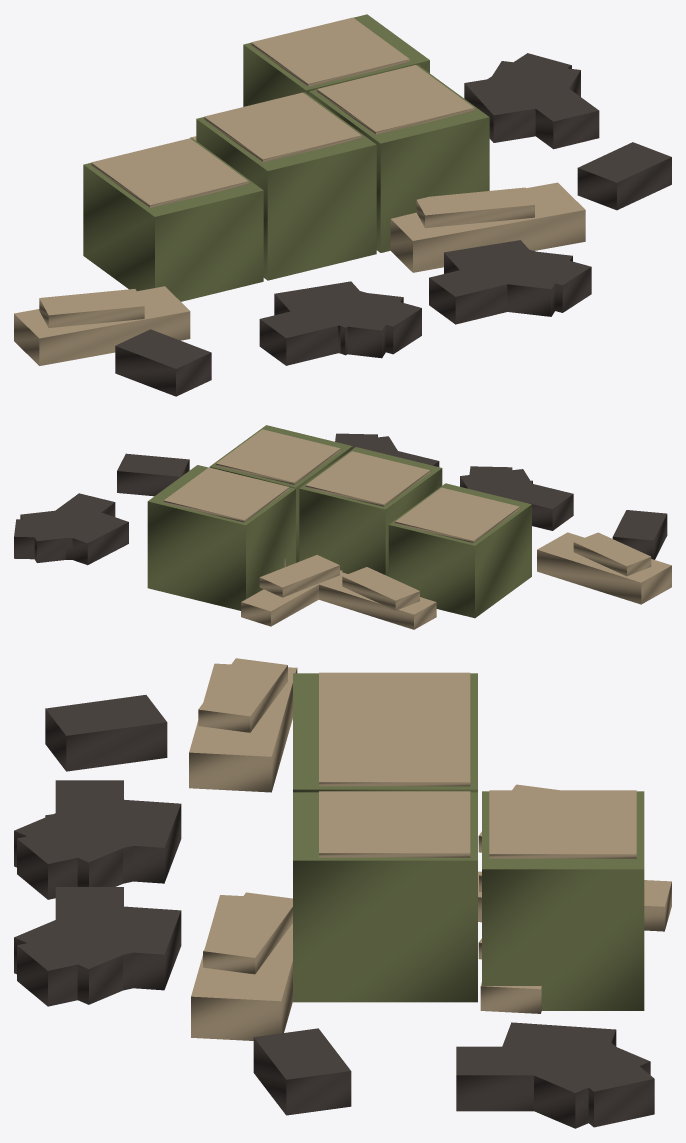
The model's file is SM_HescoRemateEspejo_v2_Escalonado_e2_MuyDanado_LOD1.fbx.
3 renders of one model, top to bottom at view 1: azimuth 30°, elevation 25°; view 2: azimuth 150°, elevation 25°; view 3: azimuth 270°, elevation 25°, orthographic. The views are drawn at different scales.
Parts seen in each view (by area): view 1: SM_hesco_piezas_v30_LOD1; view 2: SM_hesco_piezas_v30_LOD1; view 3: SM_hesco_piezas_v30_LOD1.
Part boxes in pixels (box(x1,y1,x2,y2)): SM_hesco_piezas_v30_LOD1: box(14, 14, 671, 396); SM_hesco_piezas_v30_LOD1: box(14, 425, 671, 629); SM_hesco_piezas_v30_LOD1: box(14, 658, 671, 1128).
Bounding box in the file's own units: 6.71 × 1.06 × 4.34.
